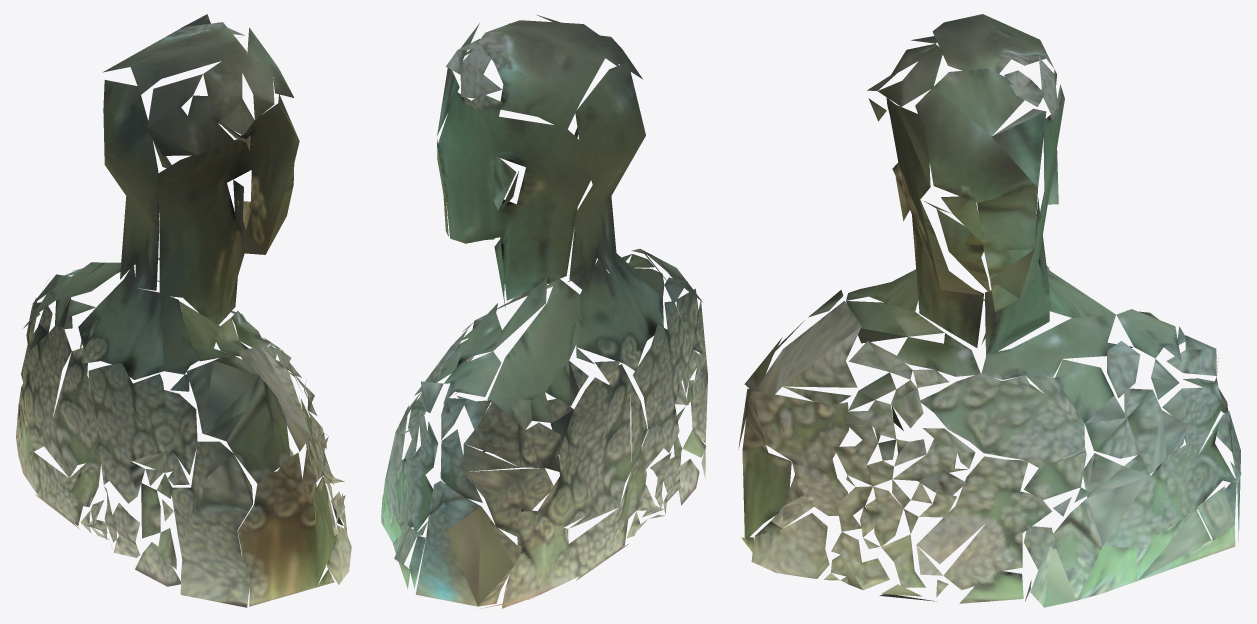
File: Statue1_LOD5.glb
The picture shows the model from 3 angles, left to right: view 1: azimuth 30°, elevation 25°; view 2: azimuth 150°, elevation 25°; view 3: azimuth 270°, elevation 25°; orthographic projection. The views are drawn at different scales.
Visible parts, largest first — view 1: Statue 1.001_LOD5; view 2: Statue 1.001_LOD5; view 3: Statue 1.001_LOD5.
Boxes of the visible parts, x1,y1,x2,y2 form: Statue 1.001_LOD5: (16,14,351,607); Statue 1.001_LOD5: (381,14,707,608); Statue 1.001_LOD5: (738,14,1241,607).
Size of the model in its own units: 0.2655 by 0.5119 by 0.4572.
1 material, 1 textured.
